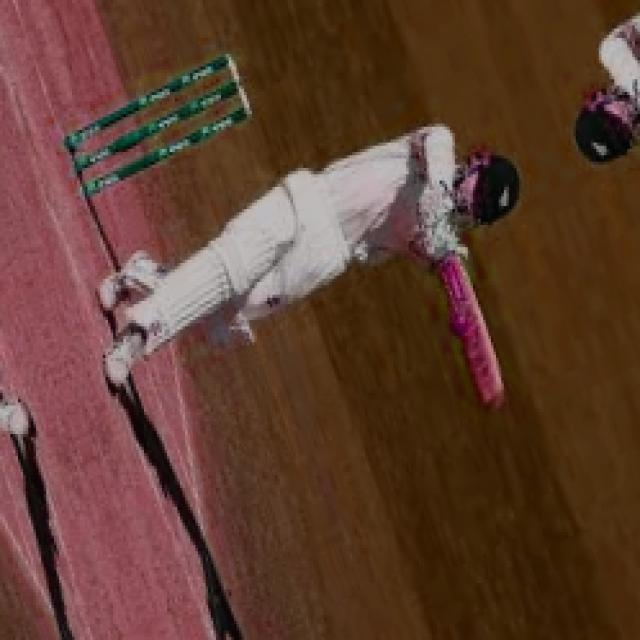toe: (480, 361, 510, 408)
